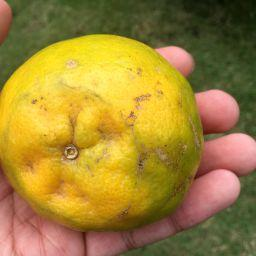Ripe: (2, 33, 200, 230)
